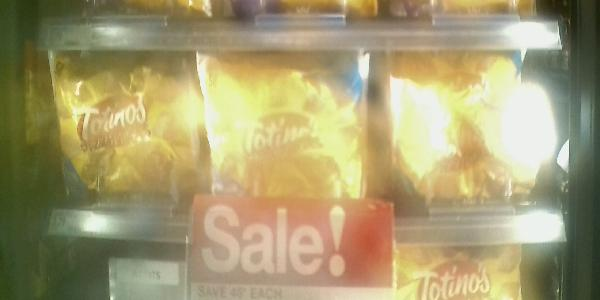icecream: (196, 46, 383, 219), (379, 51, 569, 213), (48, 48, 204, 204)
